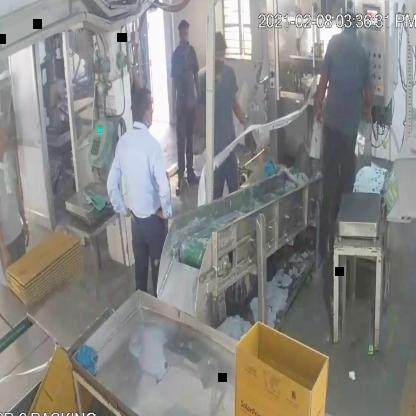no_glove: (105, 151, 139, 231), (13, 165, 33, 251), (151, 154, 171, 220), (0, 192, 14, 271), (316, 59, 330, 128), (231, 89, 247, 132)
